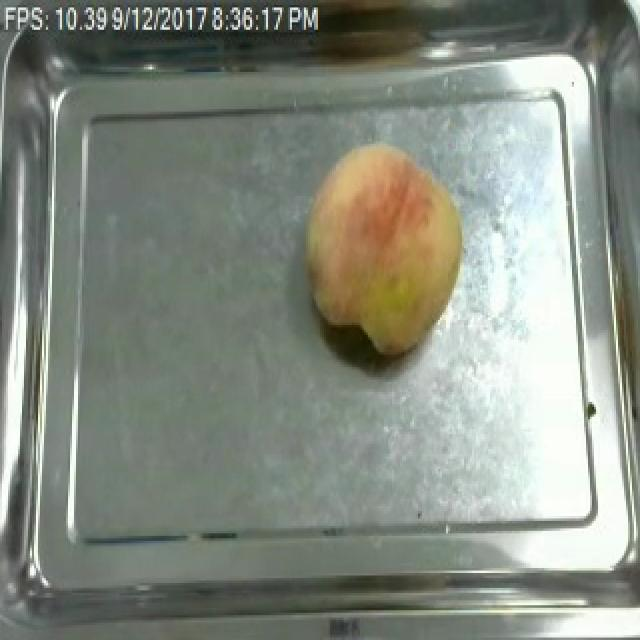Fruit: (294, 134, 474, 365)
